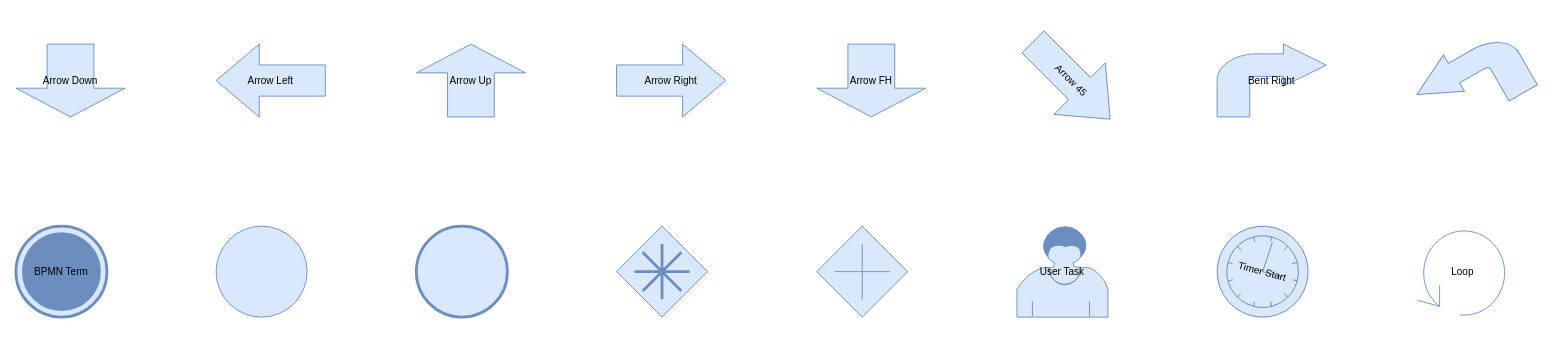
The diagram is 1554 pixels wide and 344 high, and some of its shapes have lost their labels. The centre of each missing label's shape, as x and y in pixels:
Bent L -30: the point at 1471,80
BPMN End: the point at 461,271
BPMN Start: the point at 261,271
Gateway +: the point at 862,271
Gateway X: the point at 662,271
